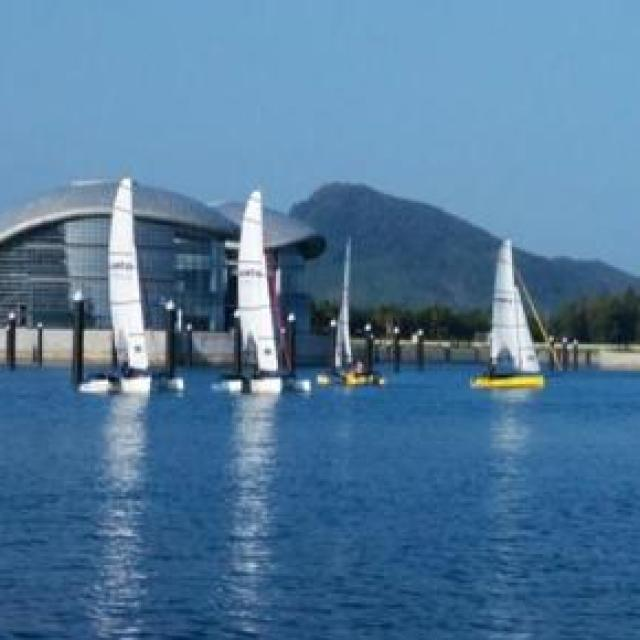sailboat: (71, 167, 184, 394), (210, 185, 290, 397), (472, 239, 546, 390), (326, 233, 389, 391)
